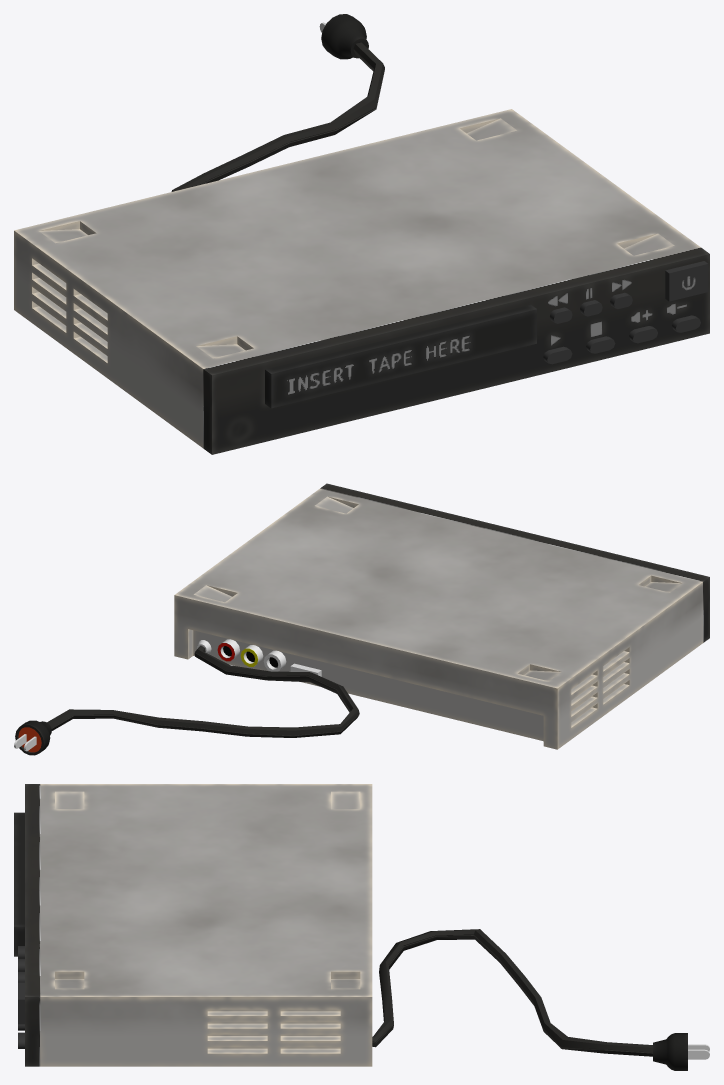
File: VHS.gltf
3 views of the same model, one above another, from view 1: azimuth 30°, elevation 25°; view 2: azimuth 150°, elevation 25°; view 3: azimuth 270°, elevation 25° (orthographic). The views are drawn at different scales.
Parts seen in each view (by area): view 1: VHS; view 2: VHS; view 3: VHS.
Boxes of the visible parts, left/top/right/bottom form: VHS: left=14, top=14, right=709, bottom=454; VHS: left=14, top=483, right=709, bottom=755; VHS: left=14, top=784, right=709, bottom=1070.
Bounding box in the file's own units: 0.7806 × 0.1189 × 1.02.
1 material, 1 textured.
